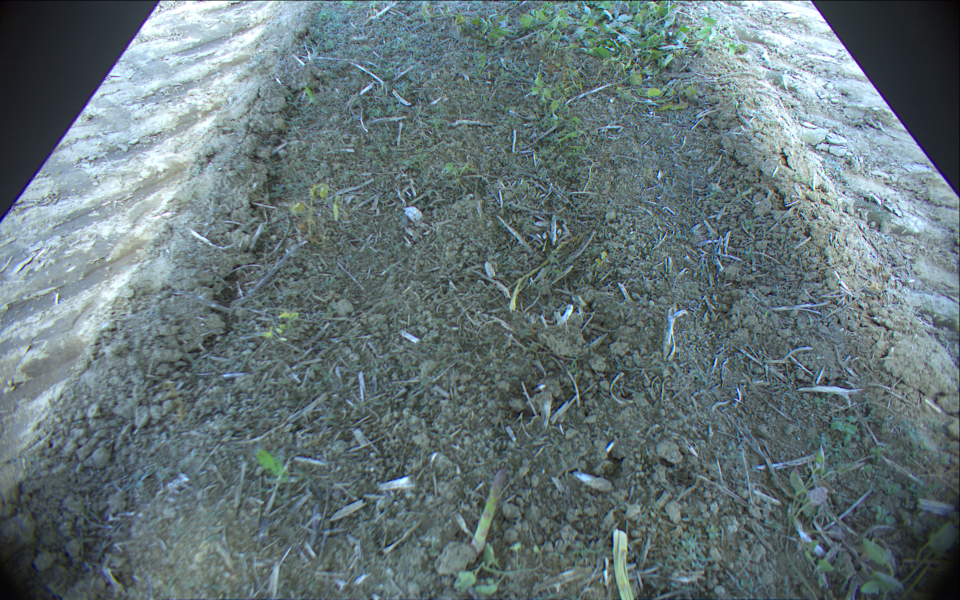aspa: (470, 466, 507, 553), (614, 527, 635, 600)
